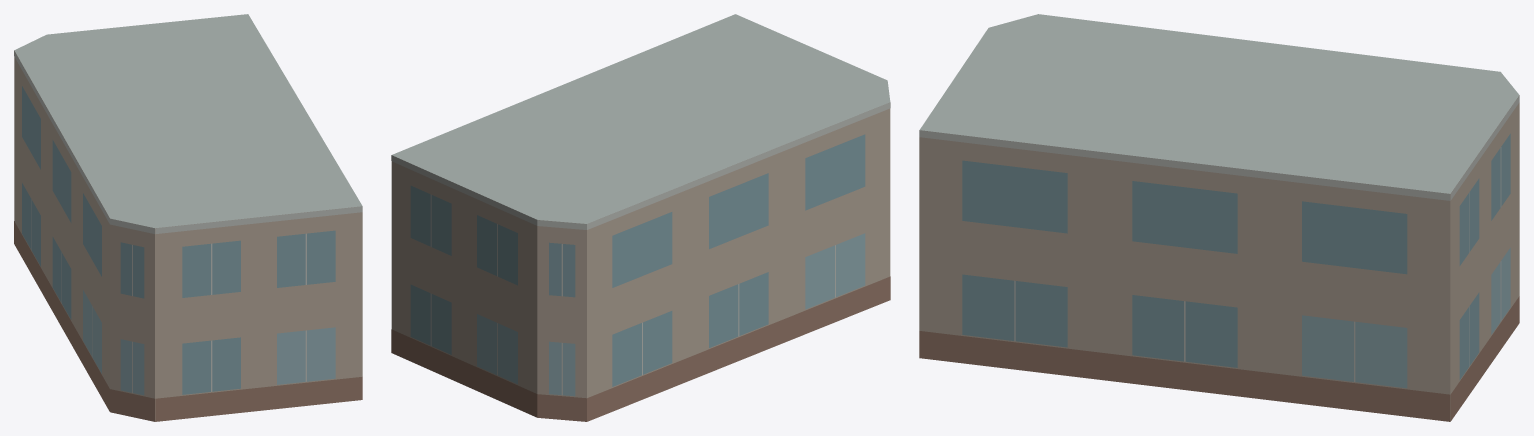
File: survey-upis-32855707.glb
The picture shows the model from 3 angles, left to right: view 1: azimuth 30°, elevation 25°; view 2: azimuth 150°, elevation 25°; view 3: azimuth 270°, elevation 25°; orthographic projection. The views are drawn at different scales.
Visible parts, largest first — view 1: survey-upis-32855707.tmp; view 2: survey-upis-32855707.tmp; view 3: survey-upis-32855707.tmp.
Boxes of the visible parts, x1,y1,x2,y2 form: survey-upis-32855707.tmp: (14, 14, 362, 421); survey-upis-32855707.tmp: (391, 14, 890, 421); survey-upis-32855707.tmp: (919, 14, 1519, 421).
Size of the model in its own units: 13.38 by 7.9 by 18.86.
